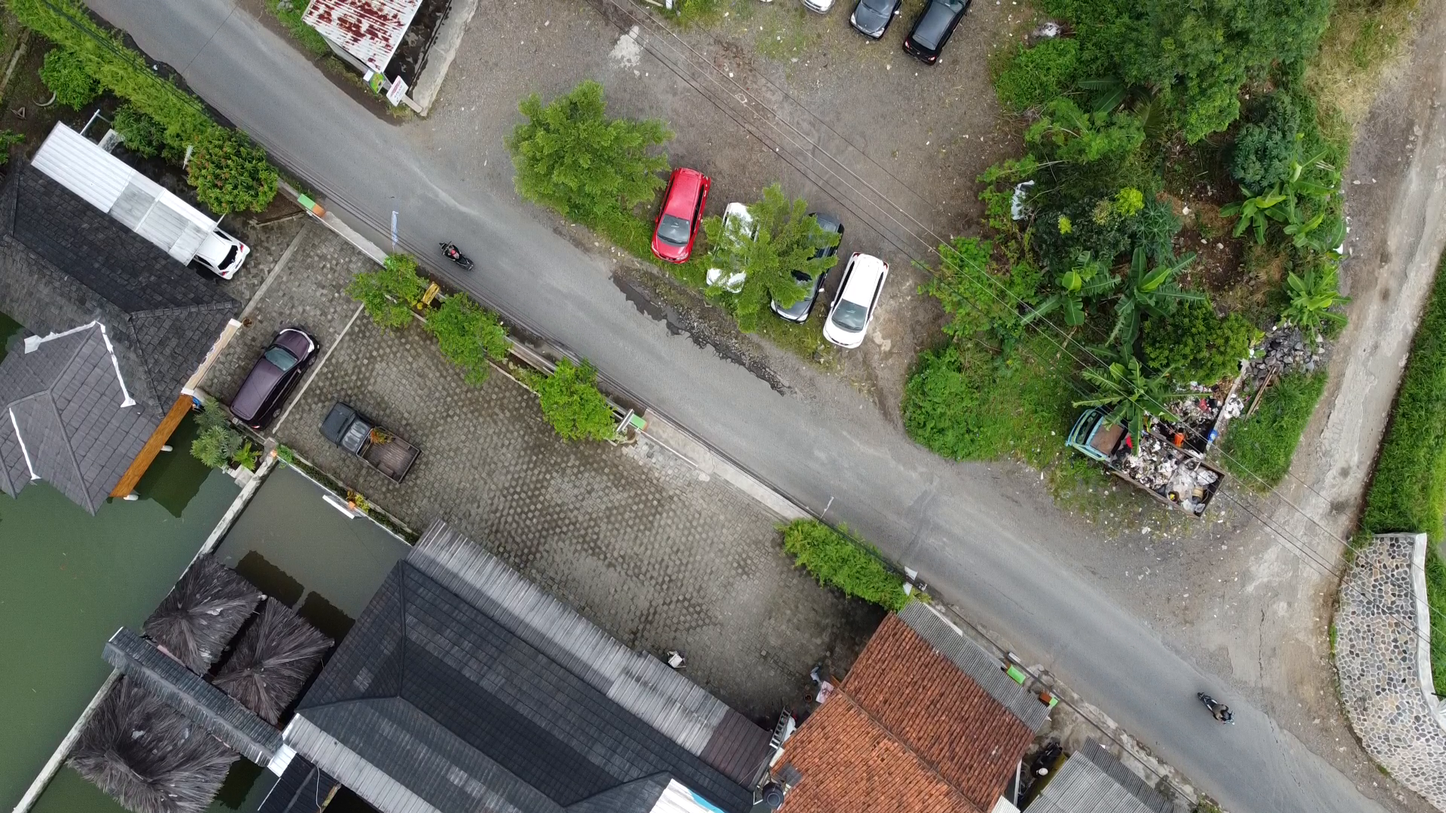mobil: (213, 314, 322, 435), (310, 394, 423, 486), (771, 212, 855, 325), (640, 163, 725, 269), (819, 246, 892, 364), (175, 195, 264, 291), (707, 193, 765, 311), (906, 3, 978, 68)
